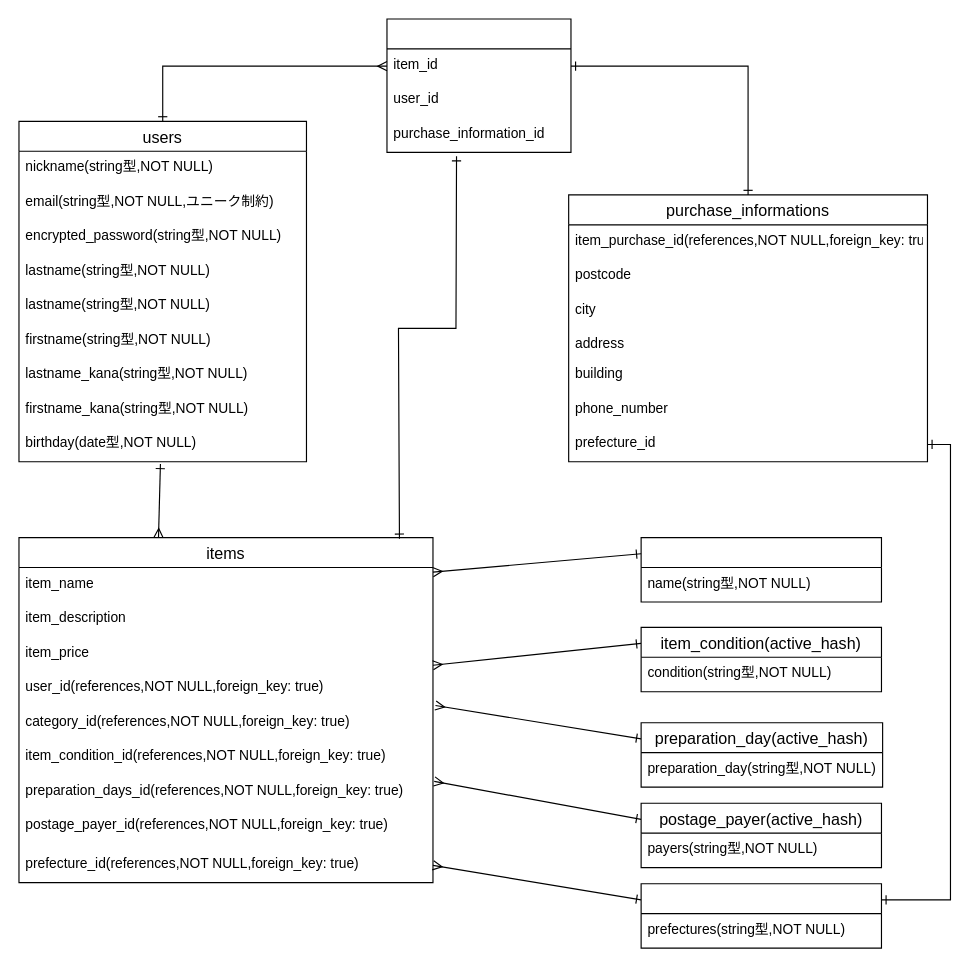
Image size: 969x967. Some labels were removed from this diagram. Here are the shapes that lost their labels. From the top down, the box of each, then its label:
(386, 18, 571, 152): item_purchases
(640, 536, 881, 602): category(active_hash)
(640, 883, 881, 948): prefecture(active_hash)
